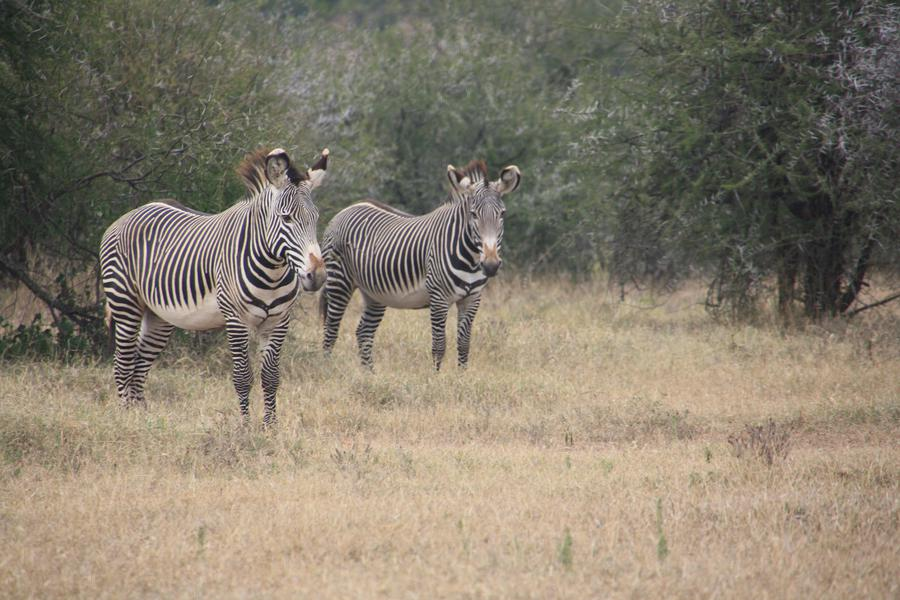zebra_grevys: (317, 182, 466, 291)
